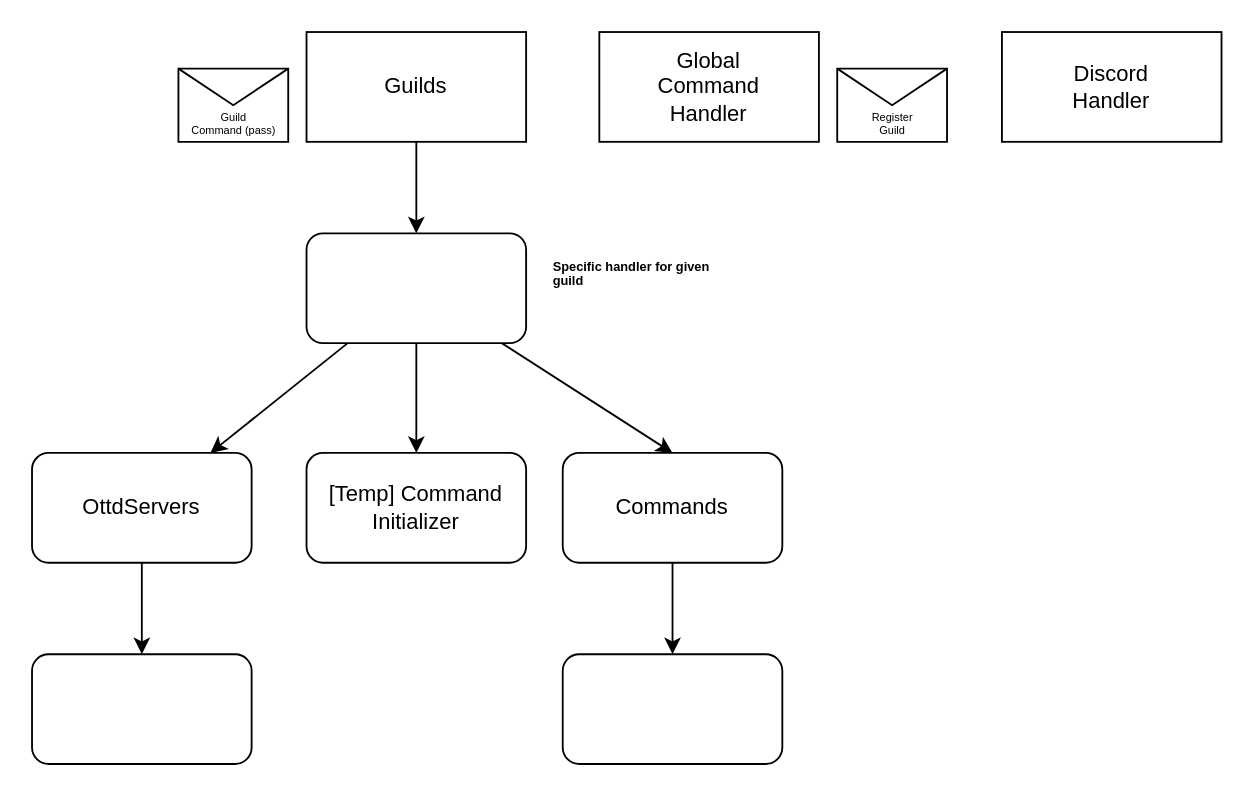
Image size: 1254x796. Some labels were removed from this diagram. The box of each missing label's shape, as (x1, y1, x2, y2) in pixels:
CommandX: (561, 652, 782, 764)
GuildHandler: (305, 231, 526, 343)
OttdServer: (30, 652, 252, 764)
